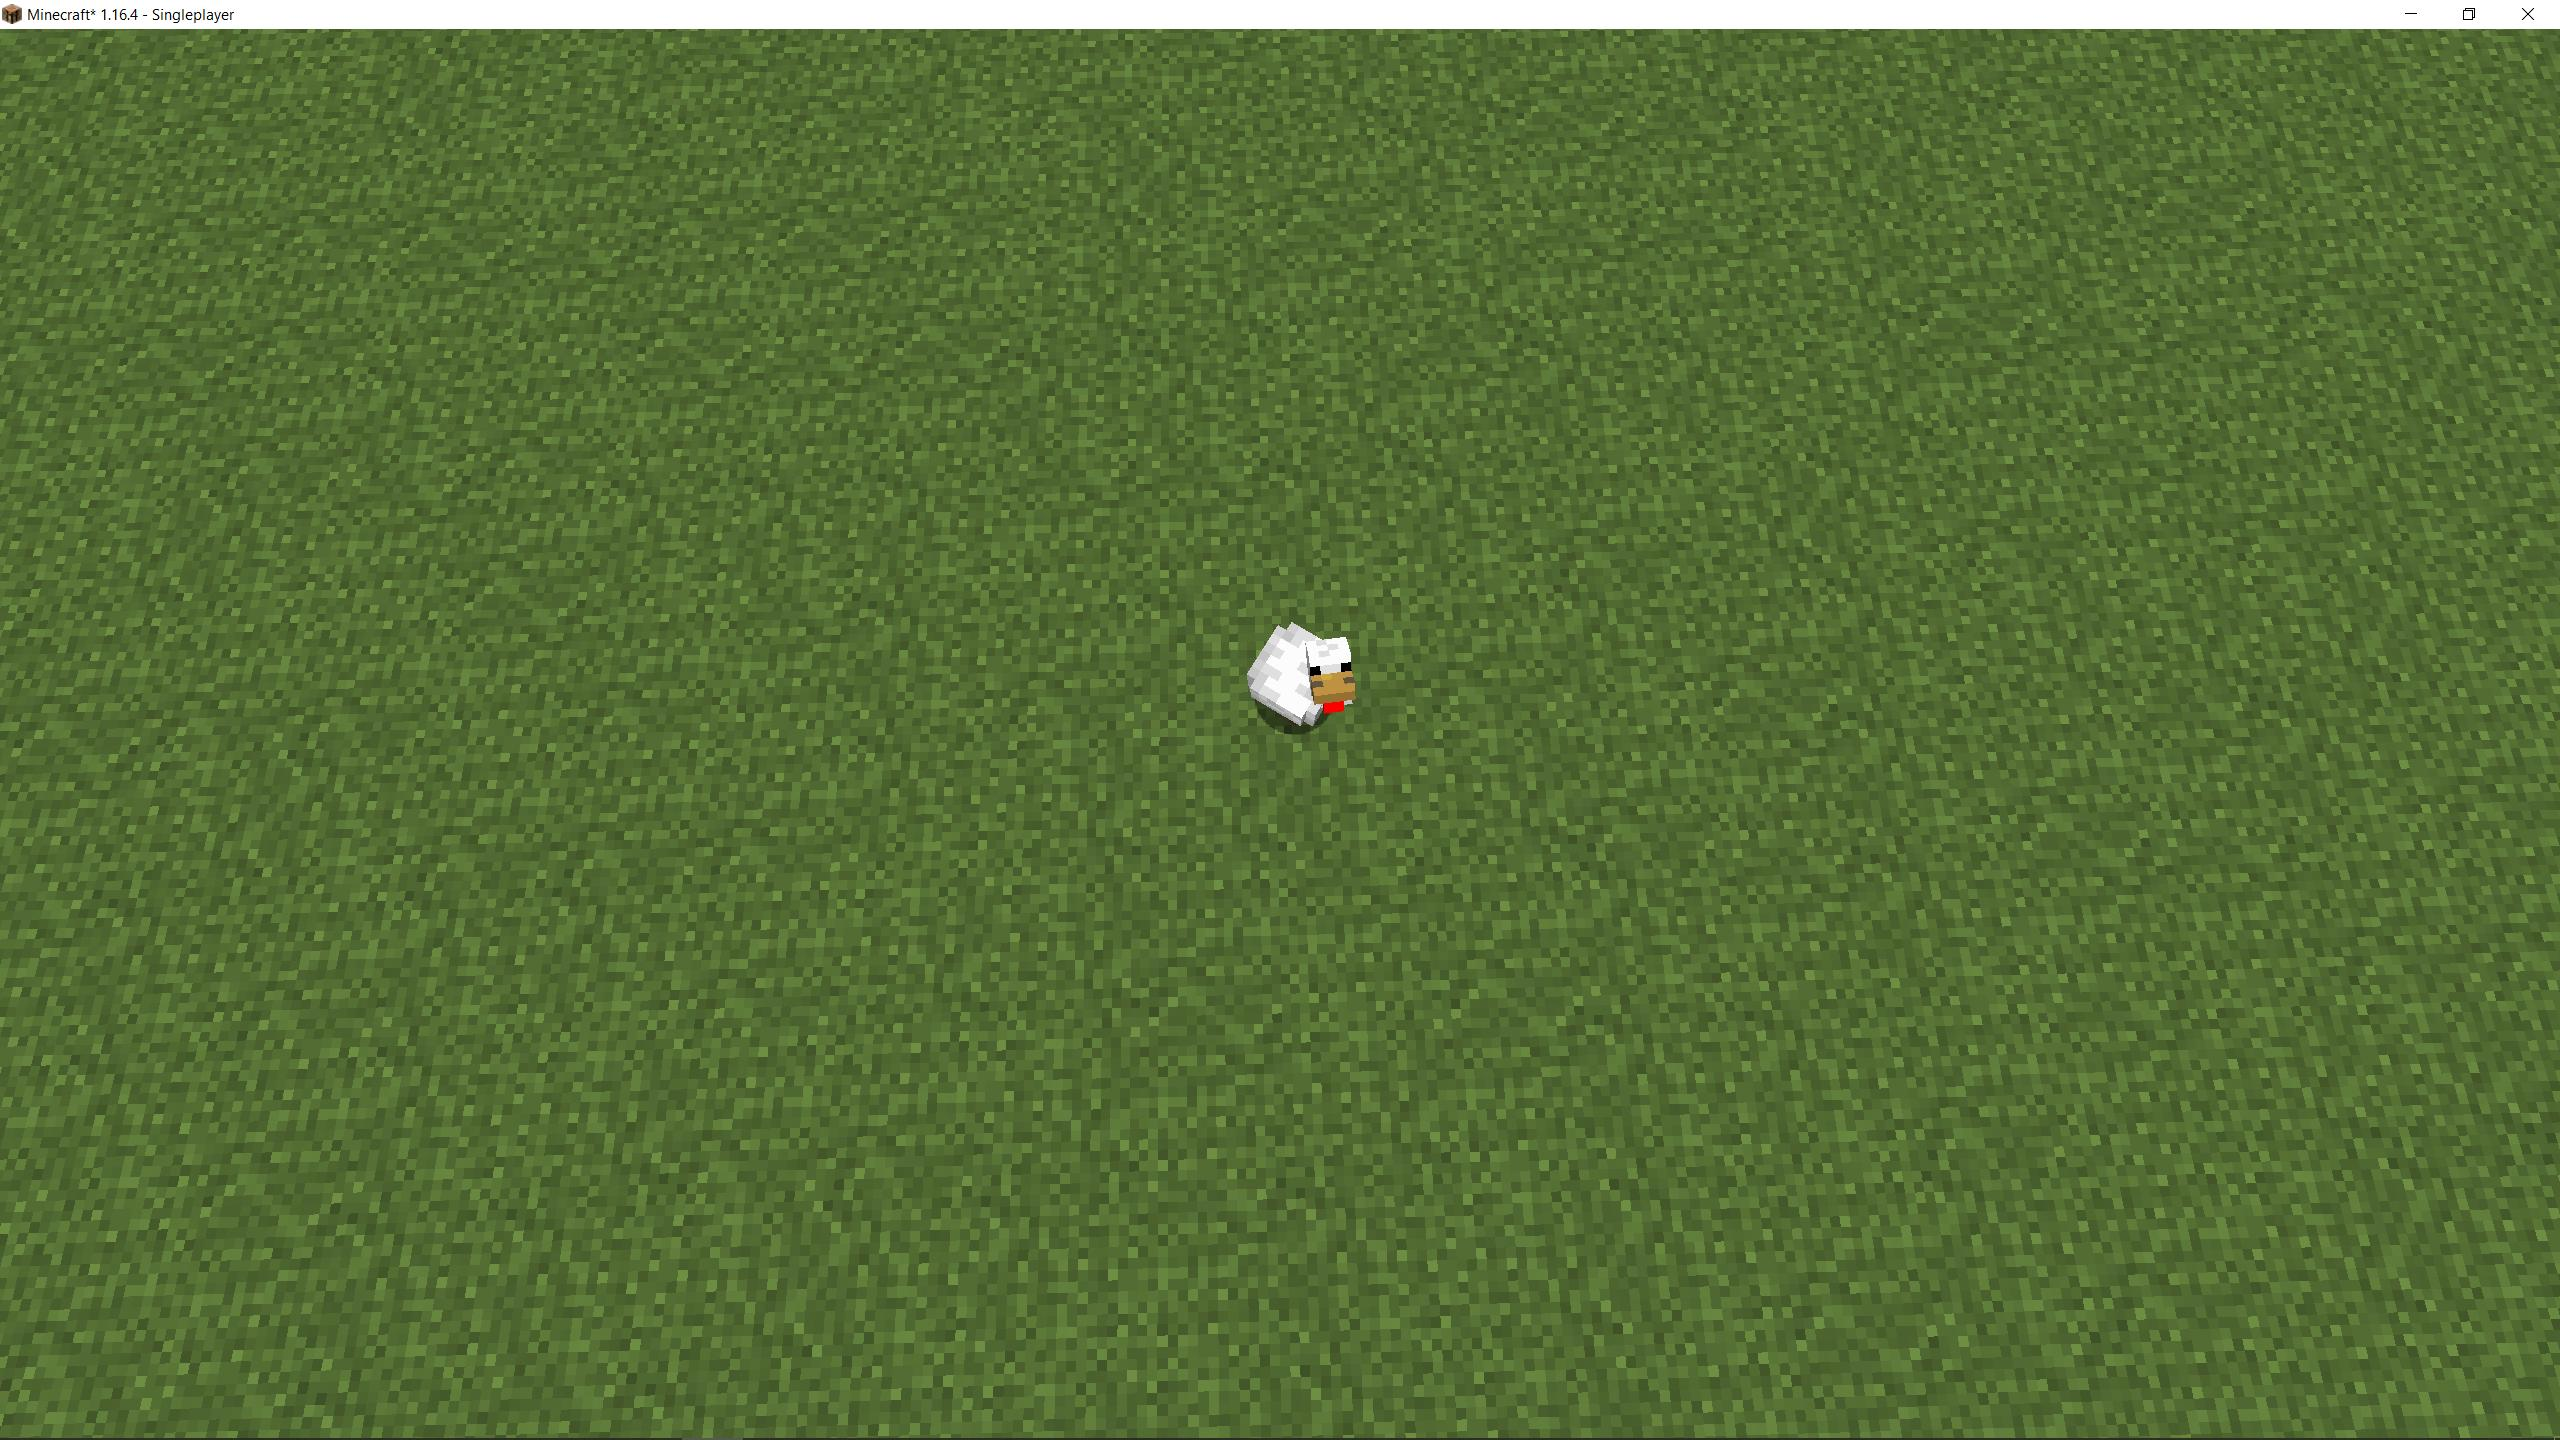chicken: (1234, 621, 1364, 738)
